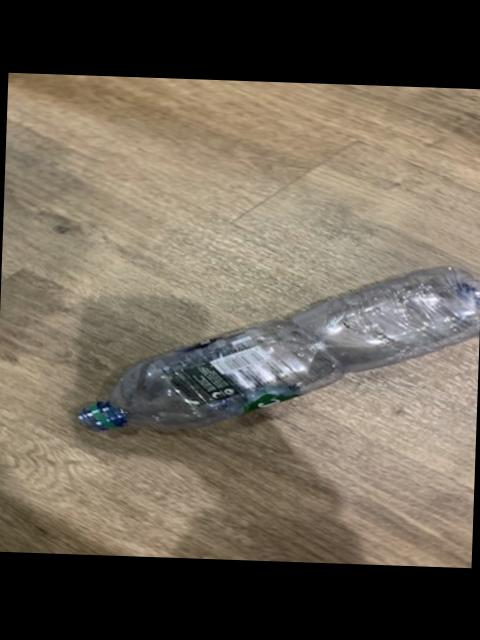plastic: (76, 269, 480, 431)
